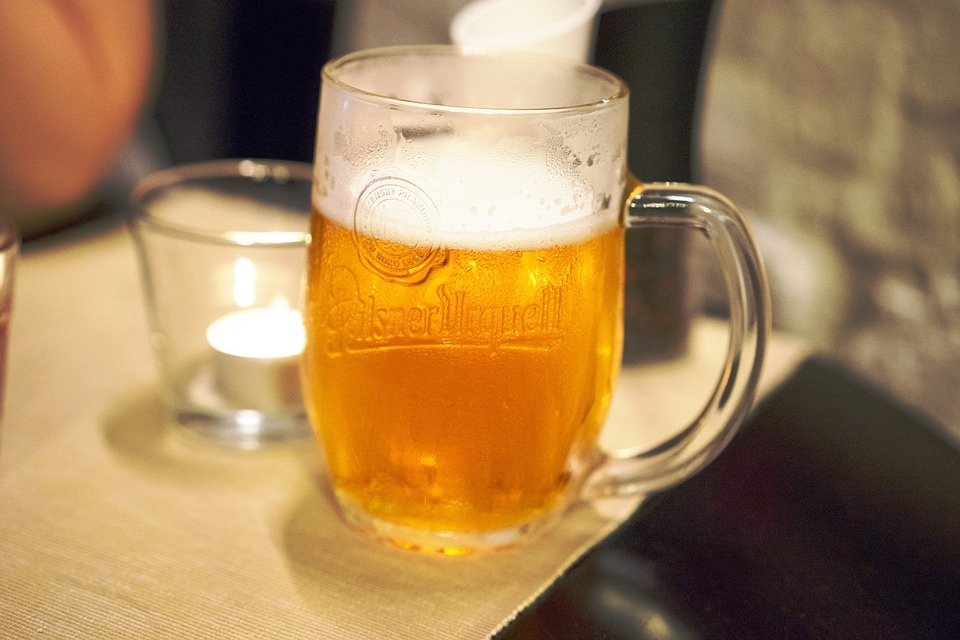glassBeer: (293, 54, 644, 552)
